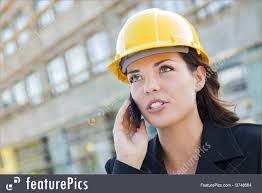Person_wearing_helmet: (110, 8, 205, 82)
